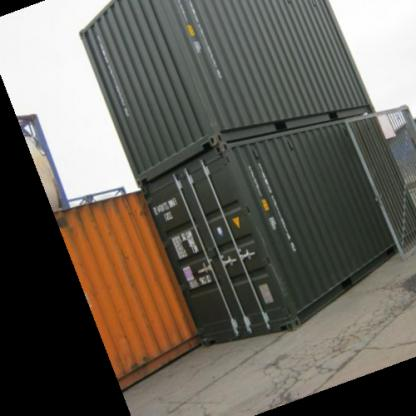Damage: (268, 249, 292, 303), (119, 198, 149, 240)
